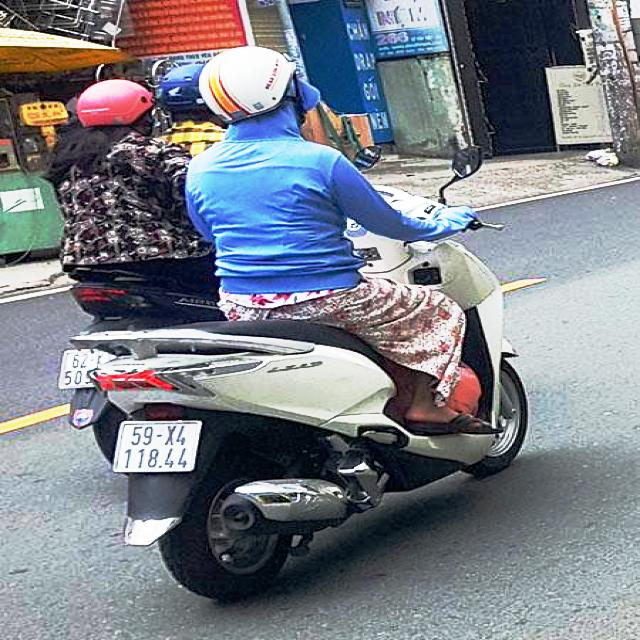license_plate: (114, 423, 202, 472)
